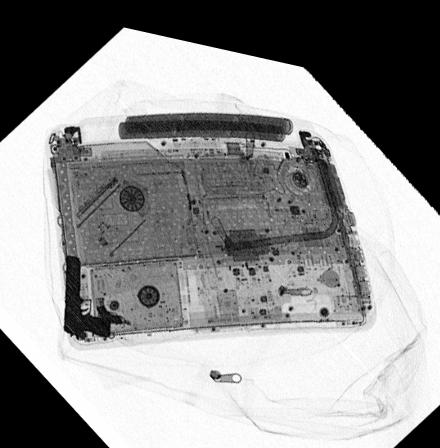Gun: (62, 251, 110, 337)
